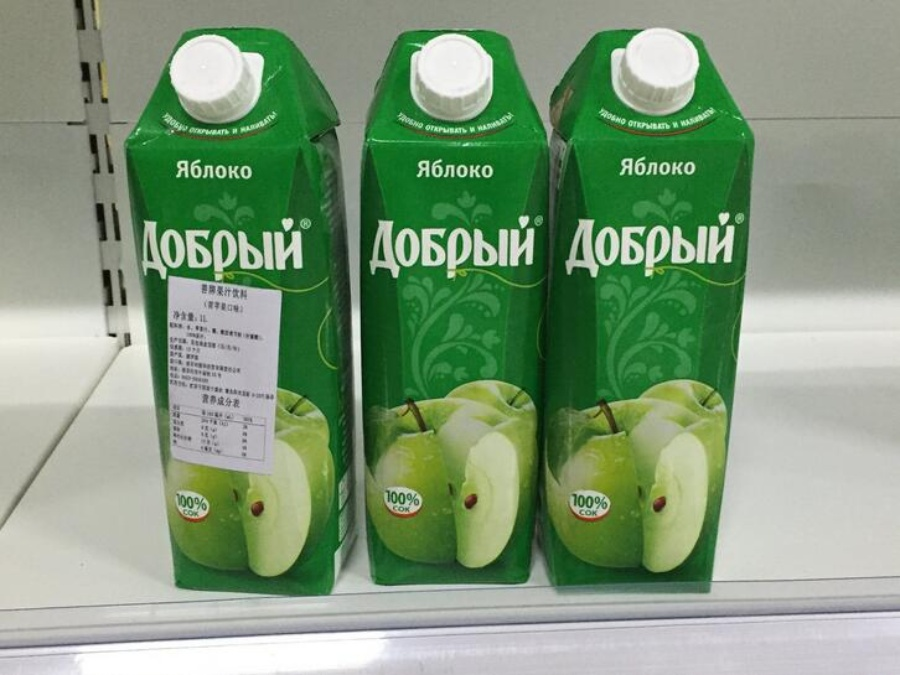juice: (92, 15, 375, 609), (334, 10, 559, 603), (533, 9, 750, 609)
